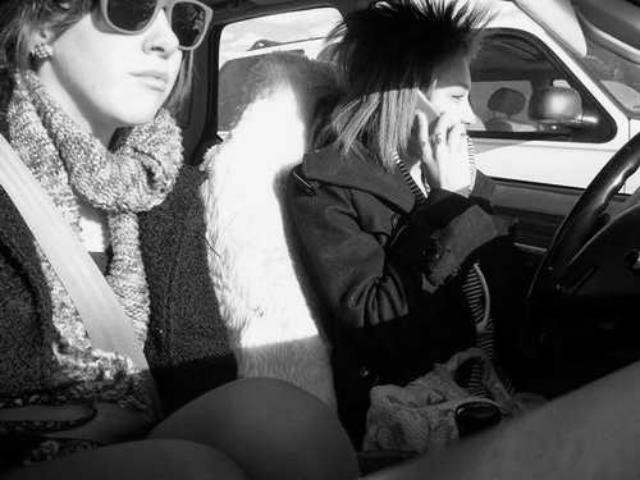Seatbelt: (0, 129, 154, 374)
